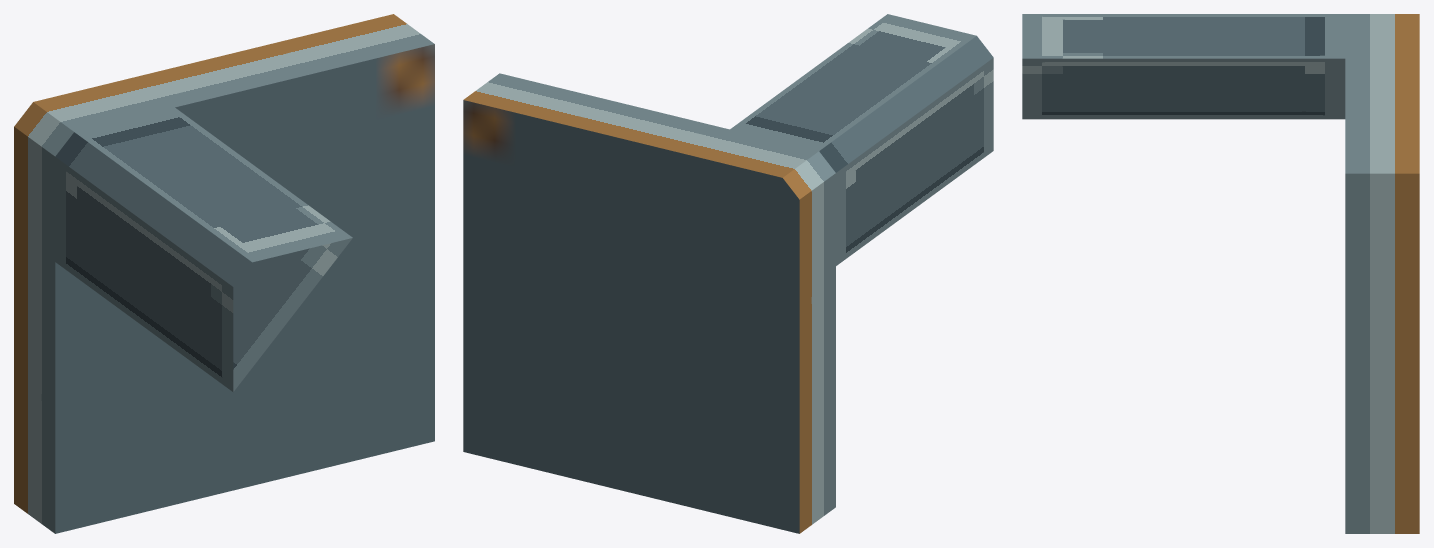
File: casing_d7_front_x-2_y2.obj
3 renders of one model, left to right at view 1: azimuth 30°, elevation 25°; view 2: azimuth 150°, elevation 25°; view 3: azimuth 270°, elevation 25°, orthographic. The views are drawn at different scales.
Parts seen in each view (by area): view 1: d7_front_x-2_y2; view 2: d7_front_x-2_y2; view 3: d7_front_x-2_y2.
Part boxes in pixels (left/top/right/bottom): d7_front_x-2_y2: left=14, top=14, right=434, bottom=533; d7_front_x-2_y2: left=463, top=14, right=993, bottom=533; d7_front_x-2_y2: left=1022, top=14, right=1419, bottom=533.
Bounding box in the file's own units: 1 × 1 × 1.
